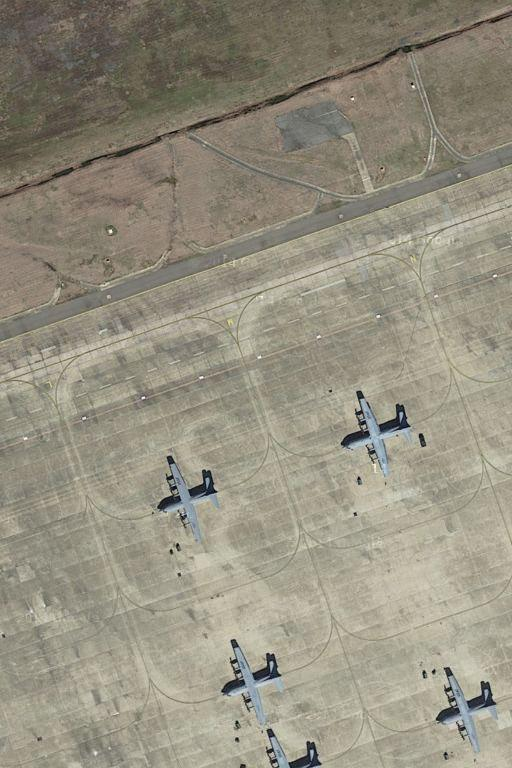C-130: (432, 664, 500, 753), (344, 393, 413, 477), (219, 639, 284, 724), (156, 458, 218, 541)
